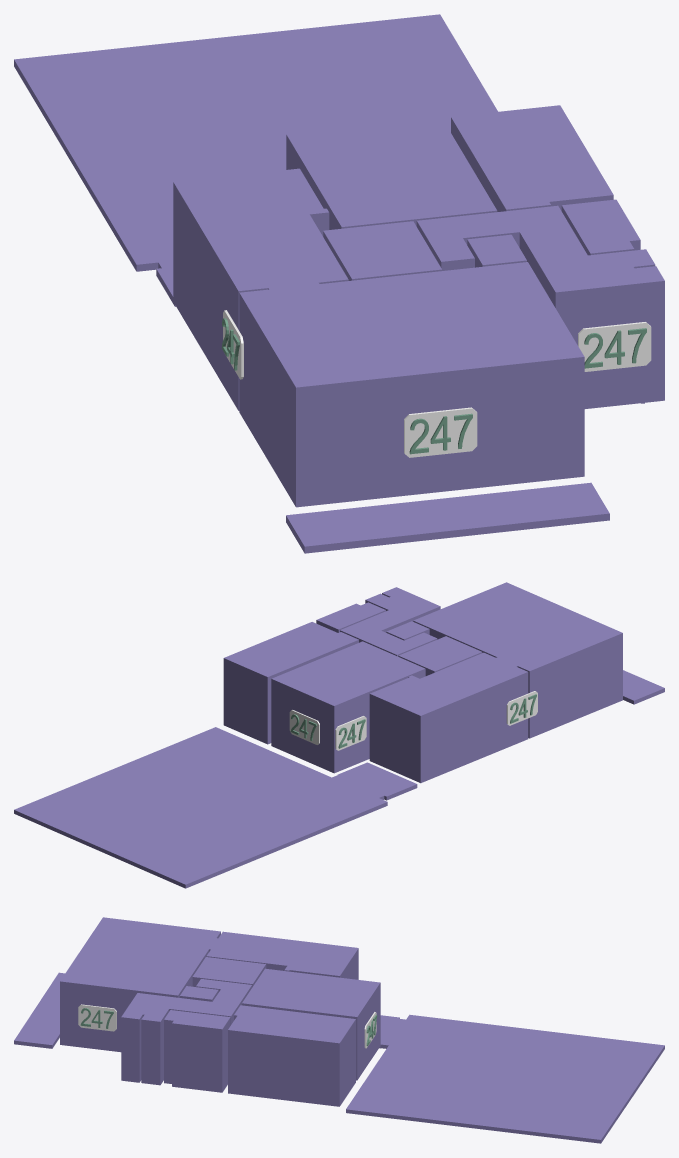
3 views of the same model, one above another, from view 1: azimuth 30°, elevation 25°; view 2: azimuth 150°, elevation 25°; view 3: azimuth 270°, elevation 25° (orthographic). The views are drawn at different scales.
Parts seen in each view (by area): view 1: g_7, g_9, g_2, g_5, g_1, g_8, g_0, g_3, g_6, g_33, g_25, g_4; view 2: g_9, g_7, g_2, g_1, g_0, g_5, g_3, g_6, g_8, g_29, g_21, g_13 (+1 smaller); view 3: g_9, g_7, g_0, g_1, g_5, g_6, g_2, g_8, g_3, g_17, g_4.
Part boxes in pixels (left/top/right/bottom): g_7: left=239, top=262, right=584, bottom=507; g_9: left=14, top=14, right=497, bottom=306; g_2: left=173, top=168, right=348, bottom=410; g_5: left=416, top=205, right=664, bottom=408; g_1: left=286, top=118, right=497, bottom=229; g_8: left=286, top=482, right=609, bottom=553; g_0: left=451, top=105, right=613, bottom=211; g_3: left=323, top=221, right=442, bottom=280; g_6: left=561, top=199, right=640, bottom=255; g_33: left=404, top=407, right=477, bottom=457; g_25: left=578, top=322, right=651, bottom=371; g_4: left=467, top=234, right=526, bottom=267; g_9: left=14, top=727, right=417, bottom=888; g_7: left=413, top=582, right=622, bottom=738; g_2: left=369, top=652, right=528, bottom=783; g_1: left=271, top=641, right=425, bottom=773; g_0: left=223, top=622, right=358, bottom=744; g_5: left=340, top=587, right=440, bottom=656; g_3: left=398, top=636, right=482, bottom=675; g_6: left=316, top=602, right=385, bottom=632; g_8: left=623, top=670, right=664, bottom=704; g_29: left=289, top=710, right=319, bottom=744; g_21: left=506, top=691, right=537, bottom=725; g_13: left=335, top=716, right=366, bottom=750; g_9: left=346, top=1014, right=664, bottom=1143; g_7: left=60, top=917, right=220, bottom=1052; g_0: left=228, top=1005, right=355, bottom=1106; g_1: left=242, top=968, right=380, bottom=1080; g_5: left=121, top=979, right=252, bottom=1085; g_6: left=164, top=1010, right=230, bottom=1092; g_2: left=206, top=931, right=358, bottom=979; g_8: left=14, top=972, right=64, bottom=1048; g_3: left=192, top=957, right=266, bottom=986; g_17: left=78, top=1004, right=116, bottom=1031; g_4: left=180, top=986, right=218, bottom=1001.
Bounding box in the file's own units: 14.55 × 2.74 × 23.93.
